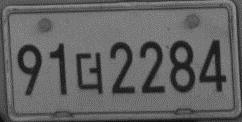1: (45, 40, 71, 98)
2: (138, 40, 166, 94), (109, 41, 136, 95)
4: (197, 39, 227, 94)
8: (168, 39, 196, 93)
9: (15, 43, 43, 96)
더: (74, 51, 104, 95)
